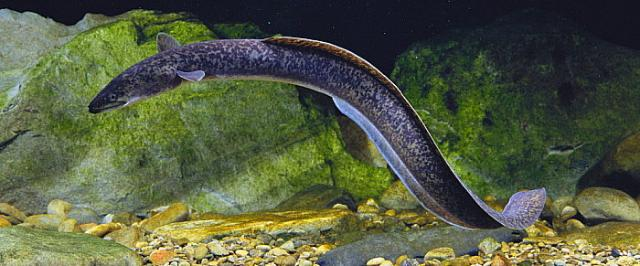Mulut: (76, 85, 128, 126)
Sirip Dada: (144, 26, 212, 93)
Sirip Ekor: (483, 181, 562, 251)
